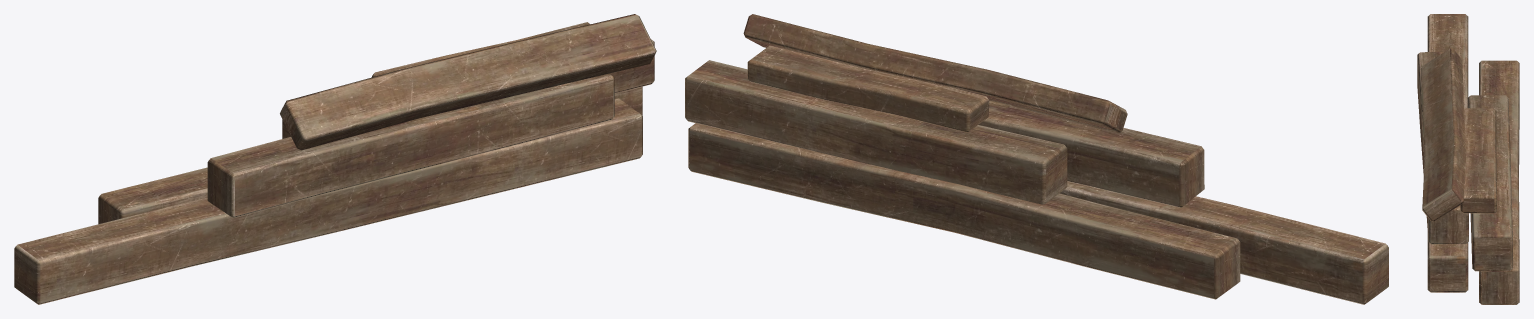
3 renders of one model, left to right at view 1: azimuth 30°, elevation 25°; view 2: azimuth 150°, elevation 25°; view 3: azimuth 270°, elevation 25°, orthographic. The views are drawn at different scales.
Visible parts, largest first — view 1: SM_DR_Wood_Stack_01_LOD0; view 2: SM_DR_Wood_Stack_01_LOD0; view 3: SM_DR_Wood_Stack_01_LOD0.
Boxes of the visible parts, x1,y1,x2,y2 form: SM_DR_Wood_Stack_01_LOD0: (14,14,656,304); SM_DR_Wood_Stack_01_LOD0: (685,14,1388,304); SM_DR_Wood_Stack_01_LOD0: (1417,14,1519,304).
Bounding box in the file's own units: 7.54 × 1.49 × 1.26.
